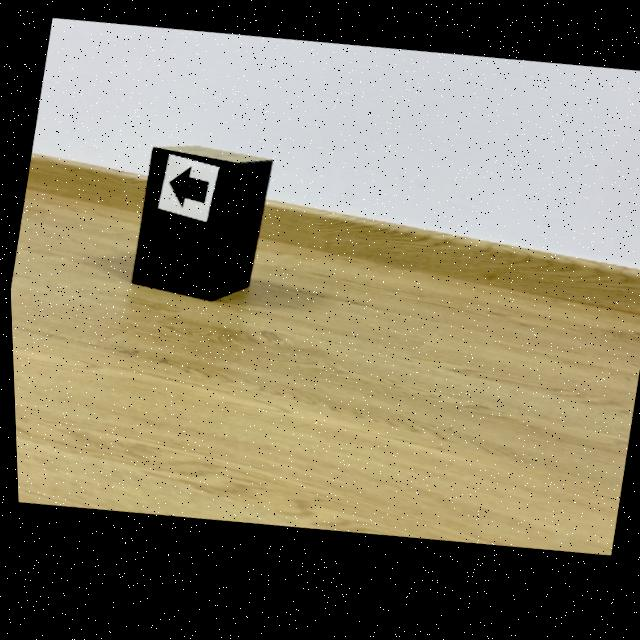LEFT: (169, 171, 207, 211)
